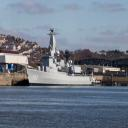Fragata: (25, 28, 94, 88)
